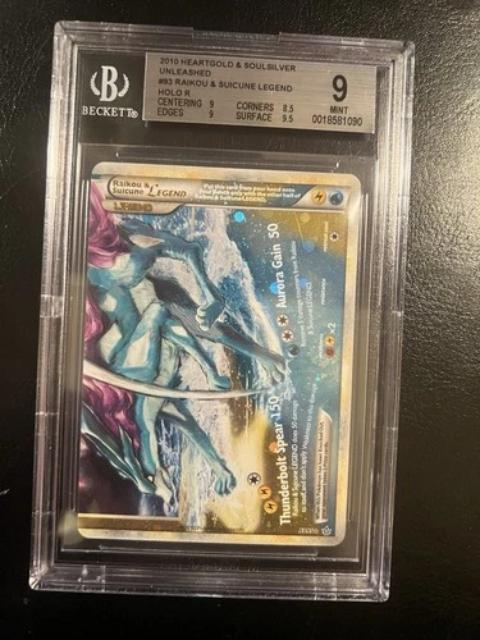Card: (73, 157, 364, 552)
Name: (106, 173, 192, 204)
